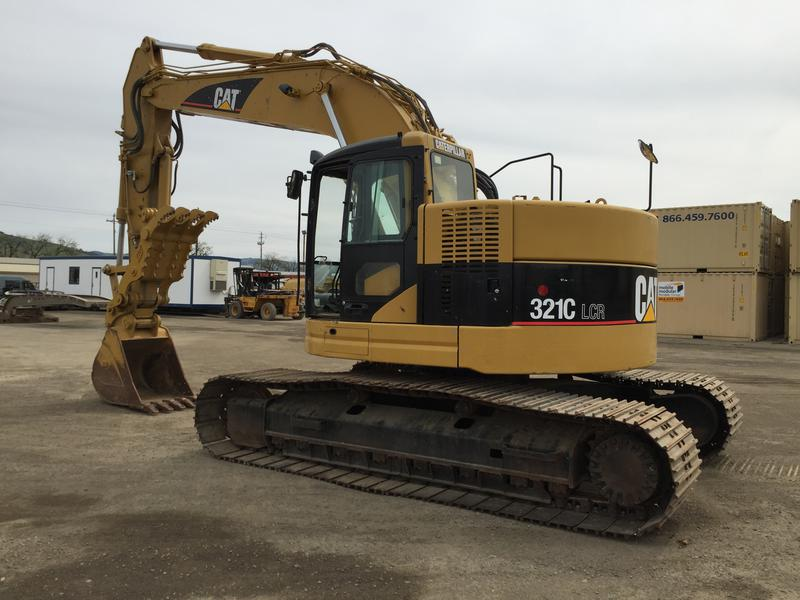shovel: (81, 12, 748, 543)
